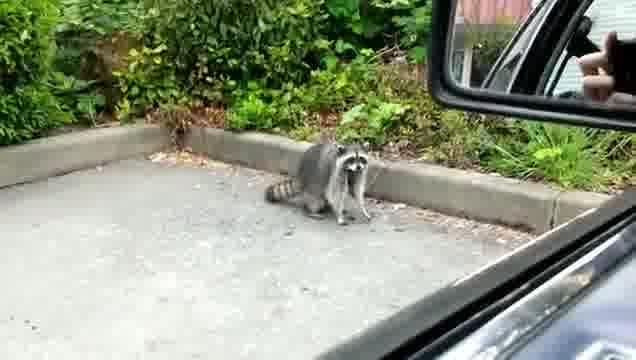raccoon: (263, 139, 374, 227)
